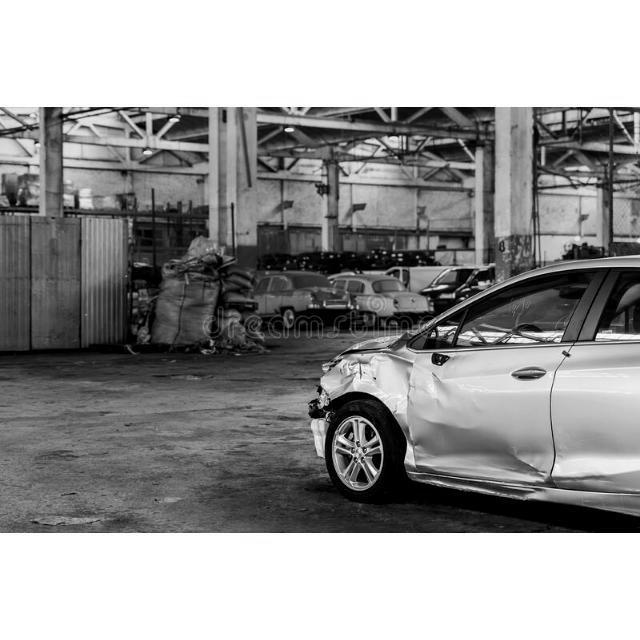Runningboard-Damage: (411, 467, 544, 501), (535, 483, 639, 519)
doorouter-dent: (414, 353, 560, 474)
fender-dent: (312, 355, 412, 447)
